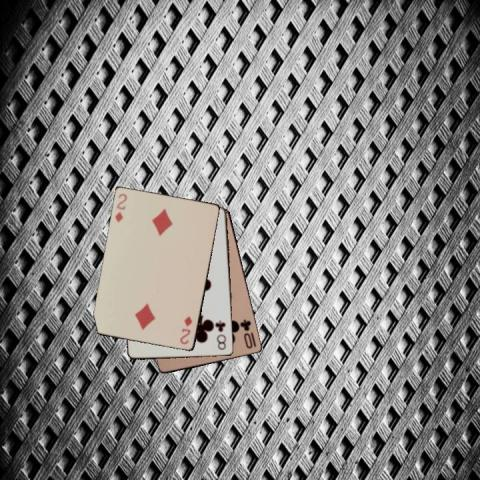10c: (237, 317, 258, 350)
2d: (112, 191, 129, 224), (178, 314, 194, 346)
8c: (214, 318, 227, 351)
